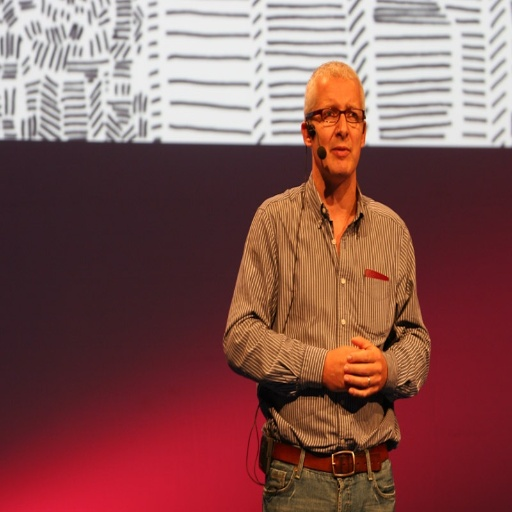hand: (343, 333, 386, 401)
